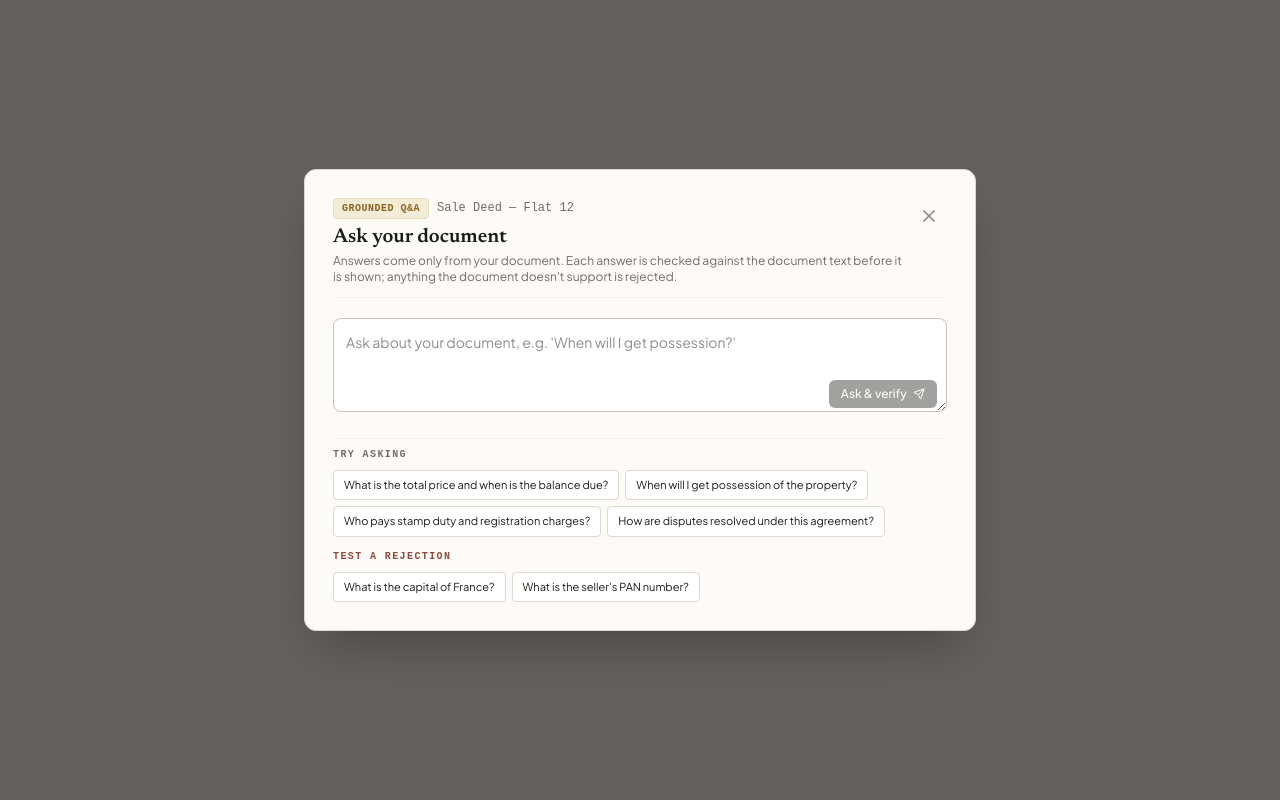
AskQuestionModal (grounded Q&A) › shows a rejection card with the reason instead of an answer
Click the button "What is the capital of France?" at point(419, 587), box [333,572,506,602]
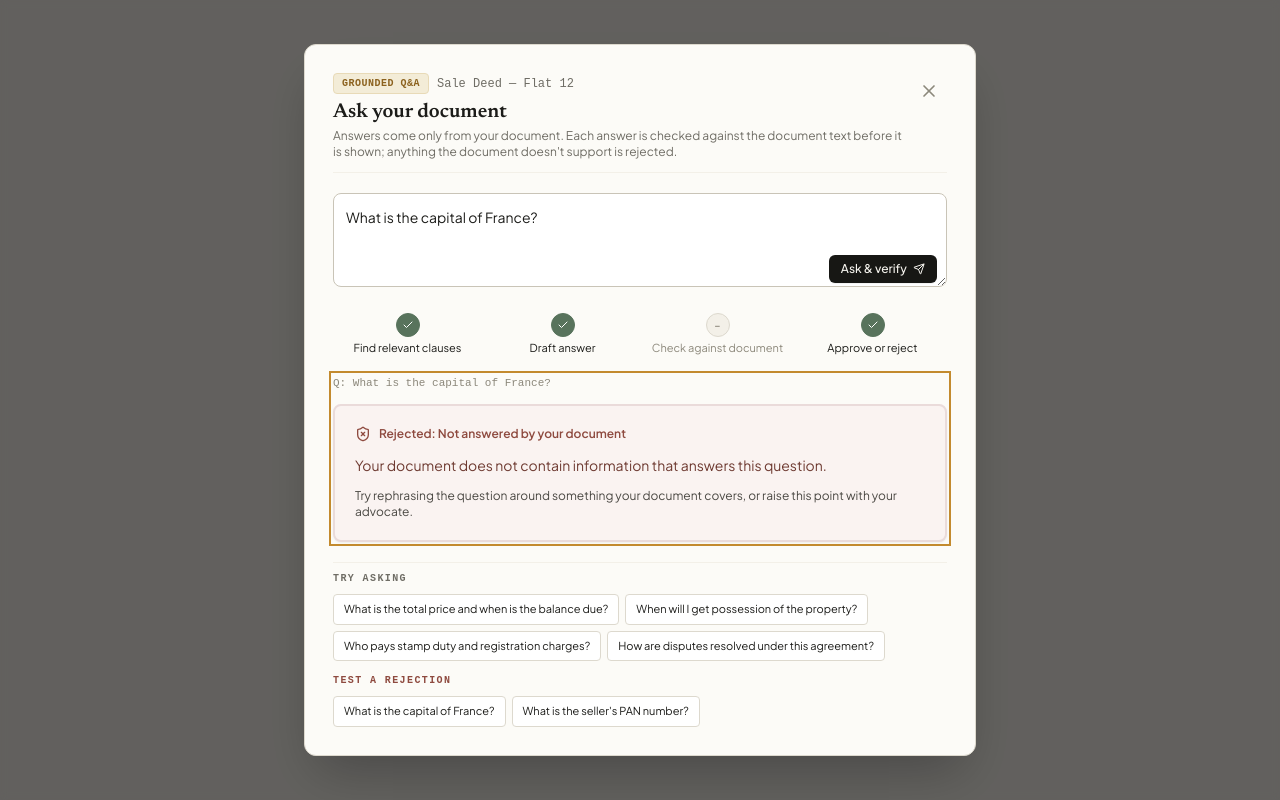
Expected: the element named "Rejected answer" shows "Rejected: Not answered by your document", [333,404,947,542]
